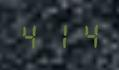four: (18, 20, 44, 50), (73, 19, 99, 49)
one: (46, 20, 72, 49)
